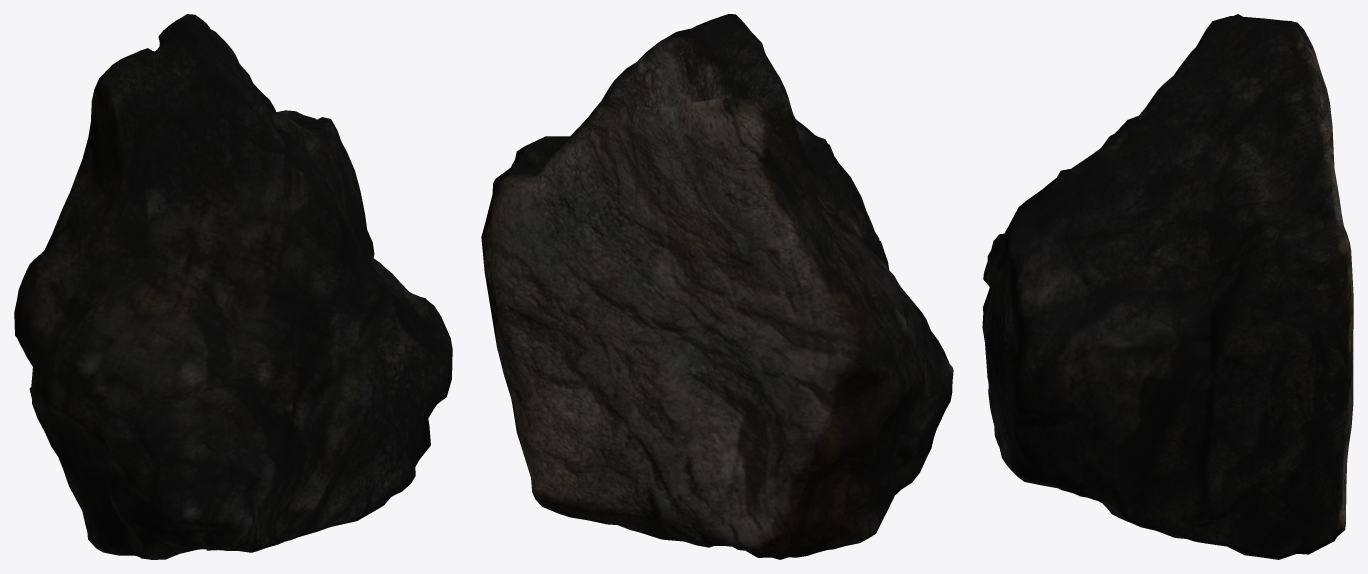
3 renders of one model, left to right at view 1: azimuth 30°, elevation 25°; view 2: azimuth 150°, elevation 25°; view 3: azimuth 270°, elevation 25°, orthographic. The views are drawn at different scales.
Parts seen in each view (by area): view 1: Cliff_Rock_2_Model; view 2: Cliff_Rock_2_Model; view 3: Cliff_Rock_2_Model.
Boxes of the visible parts, bbox=[...] form: Cliff_Rock_2_Model: bbox=[14, 14, 452, 559]; Cliff_Rock_2_Model: bbox=[481, 14, 953, 559]; Cliff_Rock_2_Model: bbox=[982, 14, 1353, 559].
Size of the model in its own units: 0.7737 by 1.04 by 0.7148.
1 material, 1 textured.
